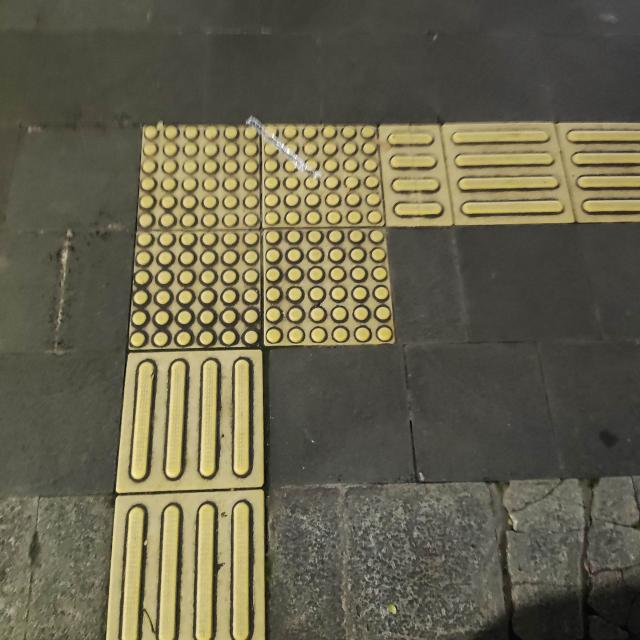kanan: (78, 89, 606, 416)
